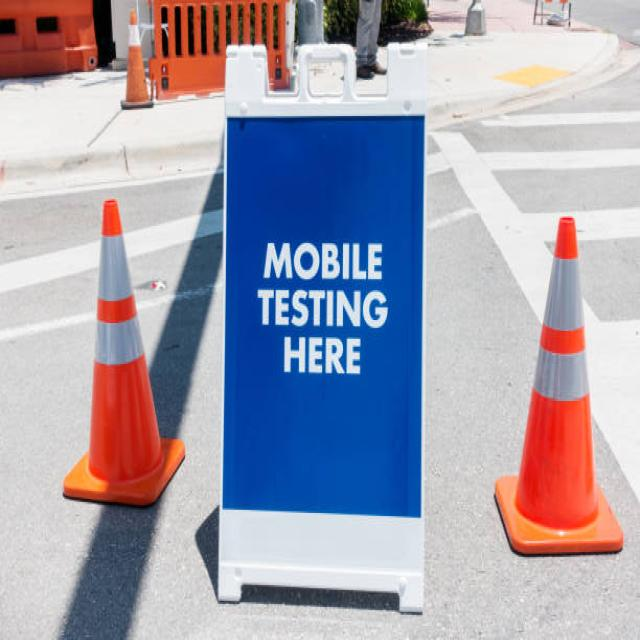Traffic Cone: (37, 160, 199, 525), (486, 173, 631, 575)
